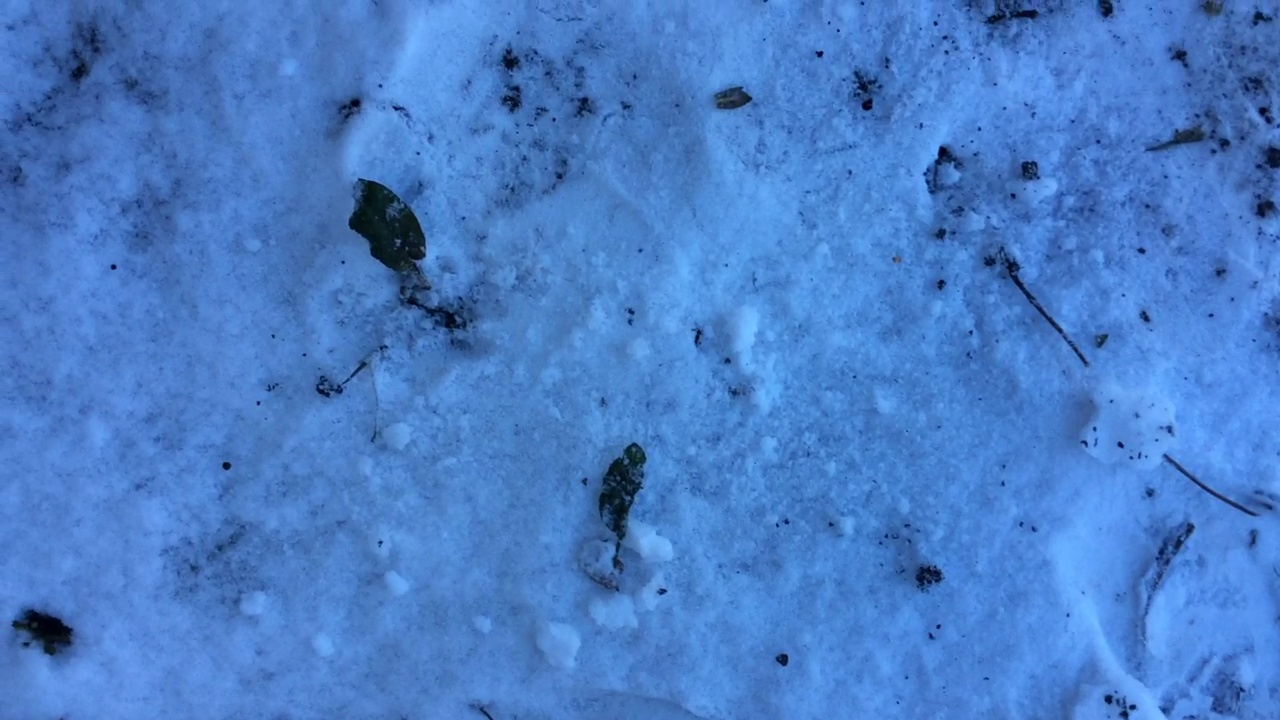root: (412, 285, 446, 320), (598, 555, 636, 584)
rumex: (342, 174, 445, 332), (598, 443, 650, 583)
